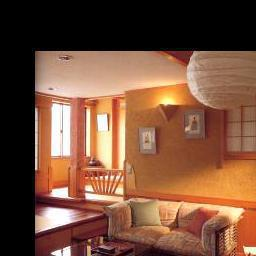Matera: (244, 245, 256, 256)
